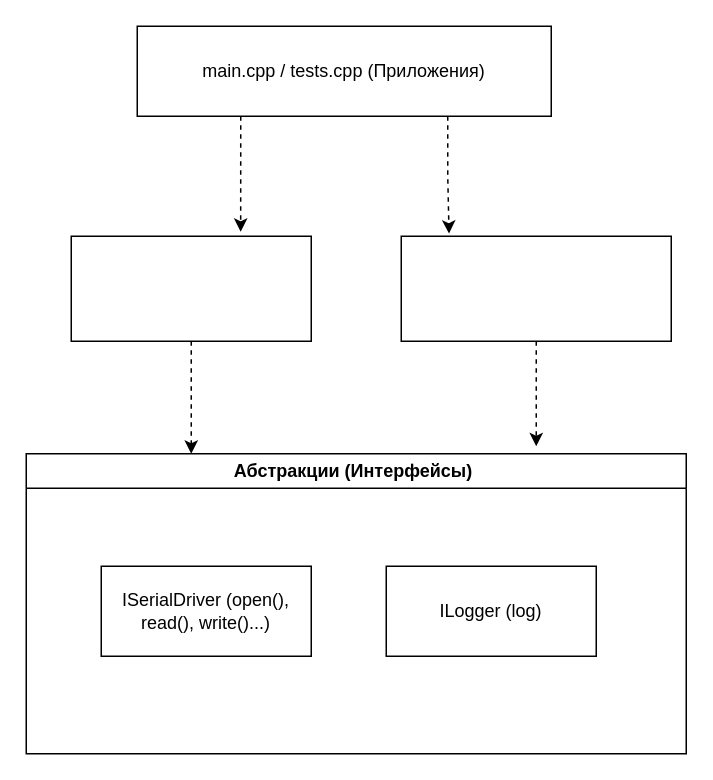
Image size: 713x780. Some labels were removed from this diagram. Each missing label, with the centre of its shape:
protocol.cpp (Логика) - Сборка фреймов - Проверка CRC - Таймауты: point 190,288
Stub-драйверы (Транспорт) [UartStubDriver] [Rs485StubDriverЪ] [UsbCdcStubDriver]: point 535,288
